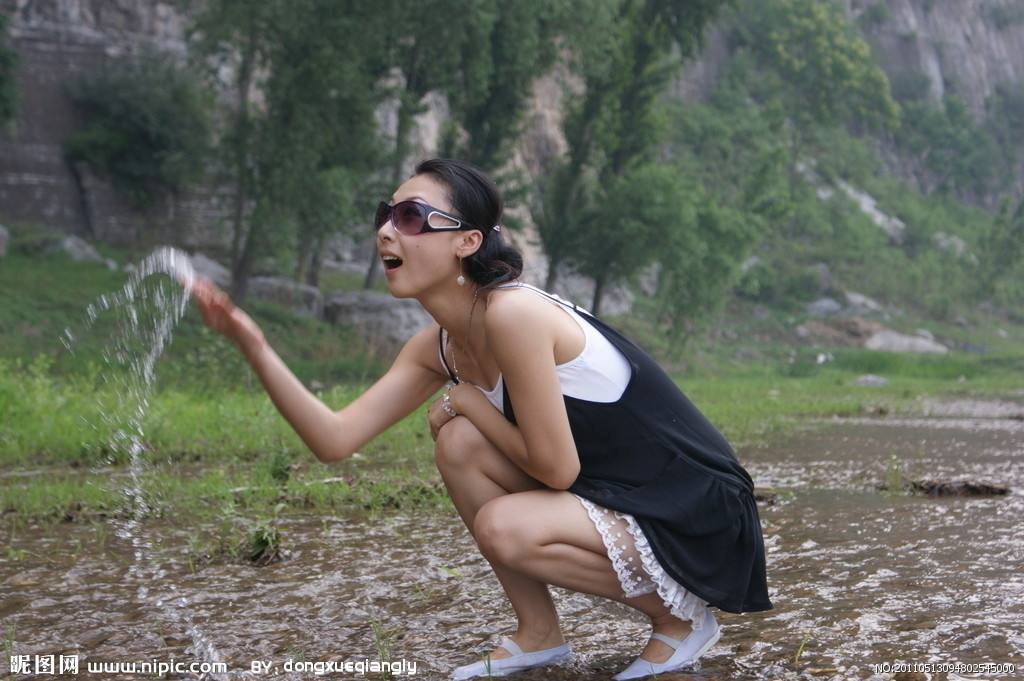person: (306, 141, 729, 662)
